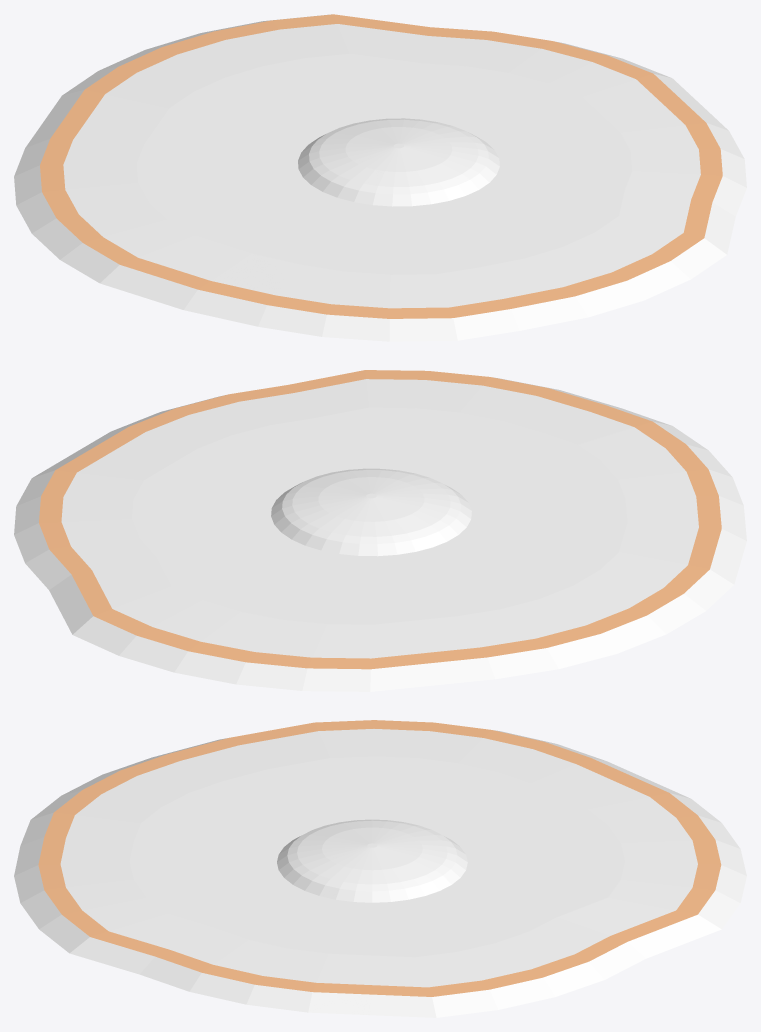
The model's file is EggBaked.fbx.
3 views of the same model, one above another, from view 1: azimuth 30°, elevation 25°; view 2: azimuth 150°, elevation 25°; view 3: azimuth 270°, elevation 25° (orthographic). The views are drawn at different scales.
Parts seen in each view (by area): view 1: Cylinder.001; view 2: Cylinder.001; view 3: Cylinder.001.
Boxes of the visible parts, x1=… form: Cylinder.001: x1=14, y1=14, x2=746, y2=341; Cylinder.001: x1=14, y1=370, x2=746, y2=691; Cylinder.001: x1=14, y1=720, x2=746, y2=1017.
Bounding box in the file's own units: 214 × 10.25 × 223.
